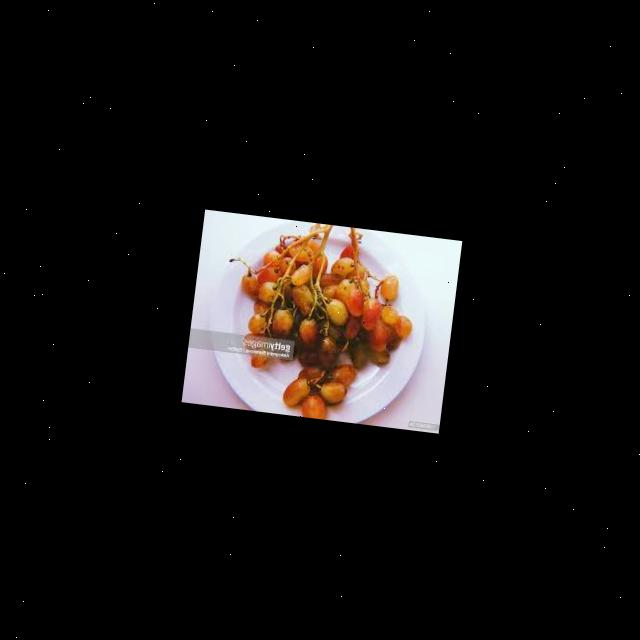grape: (210, 212, 422, 426)
